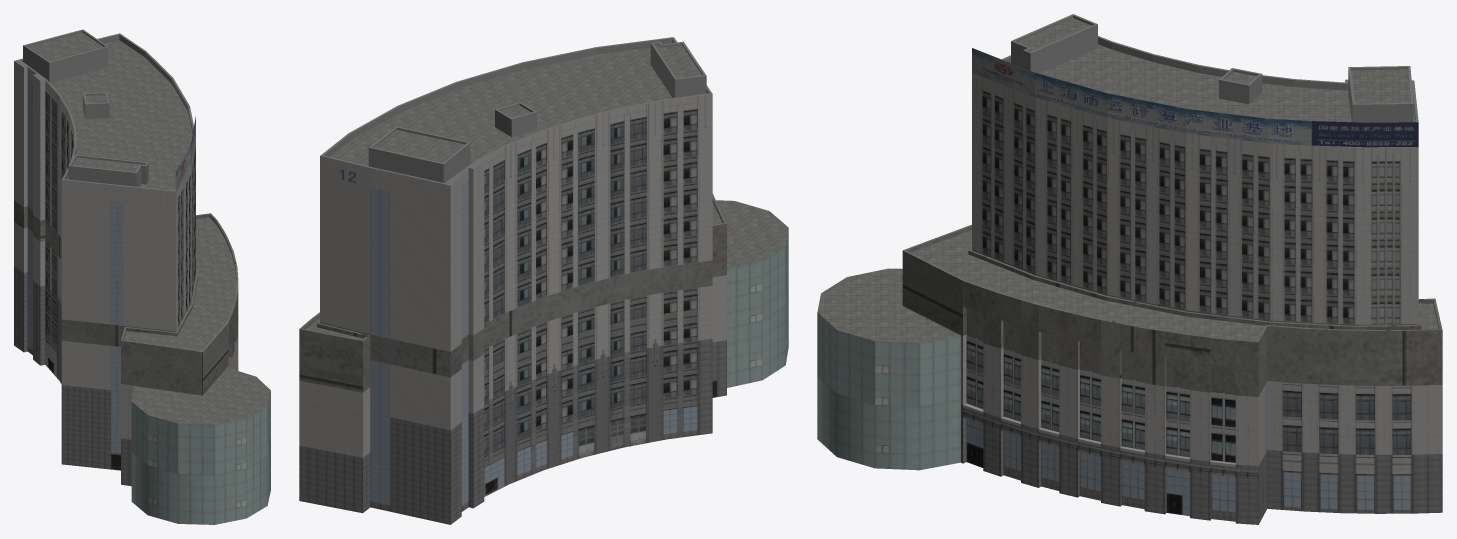
3 views of the same model, side by side, from view 1: azimuth 30°, elevation 25°; view 2: azimuth 150°, elevation 25°; view 3: azimuth 270°, elevation 25° (orthographic). The views are drawn at different scales.
Visible parts, largest first — view 1: F001-A001-Ding, F001-A001-F005, F001-A001-F002, F001-A001-F001, F001-A001-F003, F001-A001-F011, F001-A001-F010, F001-A001-F009, F001-A001-F008, F001-A001-F006, F001-A001-F007, F001-A001-F004; view 2: F001-A001-F002, F001-A001-Ding, F001-A001-F001, F001-A001-F005, F001-A001-F011, F001-A001-F003, F001-A001-F006, F001-A001-F007, F001-A001-F010, F001-A001-F008, F001-A001-F009, F001-A001-F004; view 3: F001-A001-F005, F001-A001-F002, F001-A001-Ding, F001-A001-F001, F001-A001-F003, F001-A001-F011, F001-A001-F008, F001-A001-F009, F001-A001-F006, F001-A001-F007, F001-A001-F010.
Boxes of the visible parts, <box> form: F001-A001-Ding: <box>14,29,195,191</box>; F001-A001-F005: <box>14,200,270,424</box>; F001-A001-F002: <box>14,266,270,489</box>; F001-A001-F001: <box>14,311,270,524</box>; F001-A001-F003: <box>14,244,270,445</box>; F001-A001-F011: <box>14,61,195,219</box>; F001-A001-F010: <box>14,89,195,241</box>; F001-A001-F009: <box>14,111,195,263</box>; F001-A001-F008: <box>14,133,195,286</box>; F001-A001-F006: <box>14,178,195,331</box>; F001-A001-F007: <box>14,156,195,308</box>; F001-A001-F004: <box>14,222,120,368</box>; F001-A001-F002: <box>299,254,788,483</box>; F001-A001-Ding: <box>320,37,712,185</box>; F001-A001-F001: <box>299,307,788,524</box>; F001-A001-F005: <box>299,194,788,392</box>; F001-A001-F011: <box>320,94,712,218</box>; F001-A001-F003: <box>299,229,788,430</box>; F001-A001-F006: <box>320,234,712,351</box>; F001-A001-F007: <box>320,207,712,325</box>; F001-A001-F010: <box>320,127,712,245</box>; F001-A001-F008: <box>320,180,712,298</box>; F001-A001-F009: <box>320,153,712,271</box>; F001-A001-F004: <box>370,286,712,403</box>; F001-A001-F005: <box>817,224,1442,396</box>; F001-A001-F002: <box>817,339,1442,478</box>; F001-A001-Ding: <box>972,14,1418,147</box>; F001-A001-F001: <box>817,395,1442,524</box>; F001-A001-F003: <box>817,305,1442,424</box>; F001-A001-F011: <box>972,72,1418,182</box>; F001-A001-F008: <box>972,164,1418,267</box>; F001-A001-F009: <box>972,136,1418,239</box>; F001-A001-F006: <box>972,221,1418,324</box>; F001-A001-F007: <box>972,192,1418,296</box>; F001-A001-F010: <box>972,107,1418,211</box>.
Bounding box in the file's own units: 3.83 × 5.01 × 7.37.
Materials: 3 (3 with a texture image).
